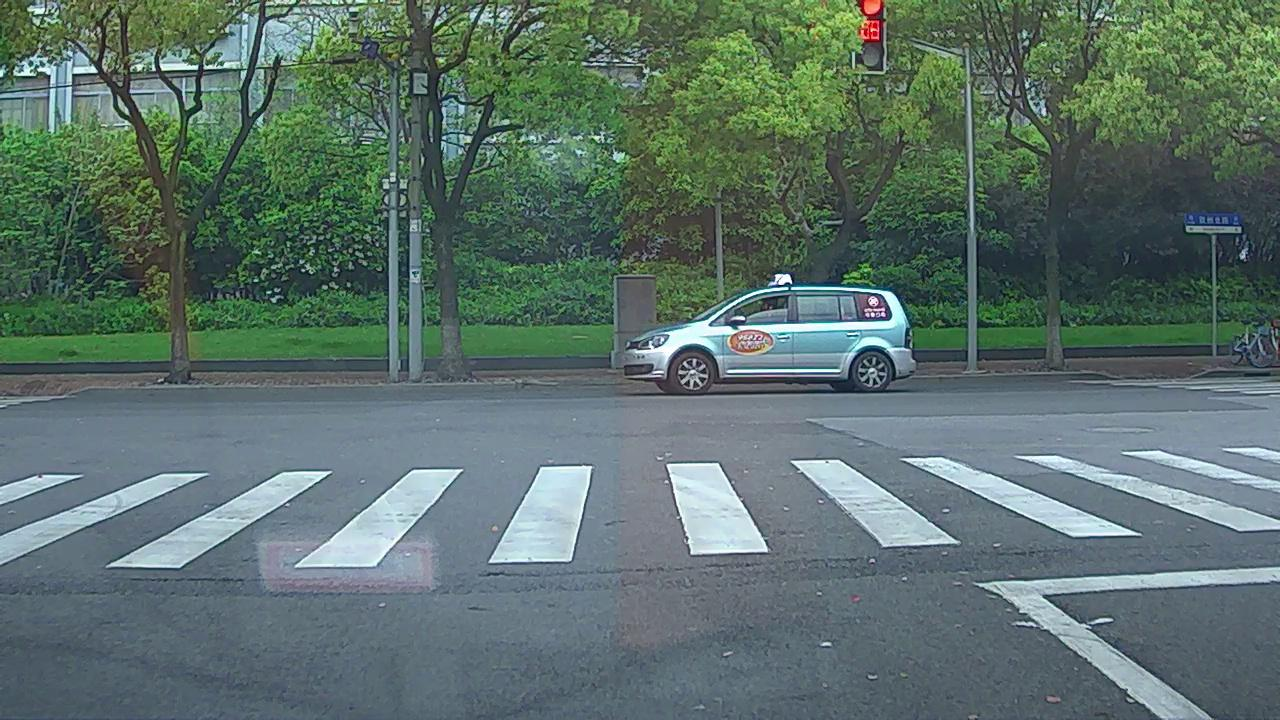traffic_light: (855, 1, 885, 71)
